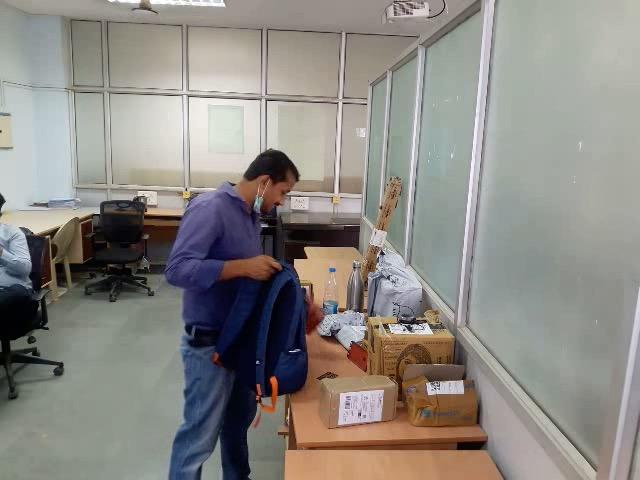shoplifting: (133, 233, 399, 401)
